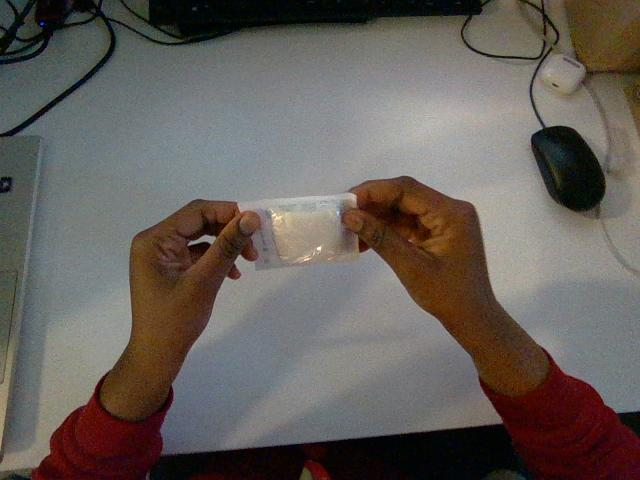gauze: (238, 193, 358, 269)
